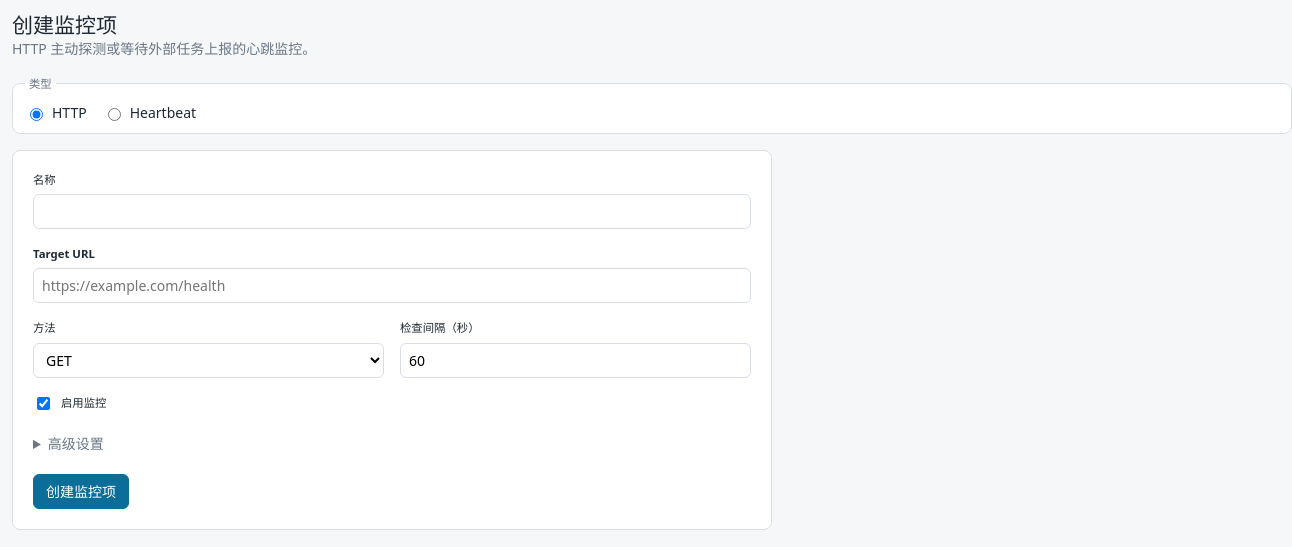
Scenario: MonitorCreateView › keeps the created heartbeat monitor when no token is returned
Click the radio button labelled "Heartbeat" at (114,114), box left=108, top=108, right=121, bottom=121
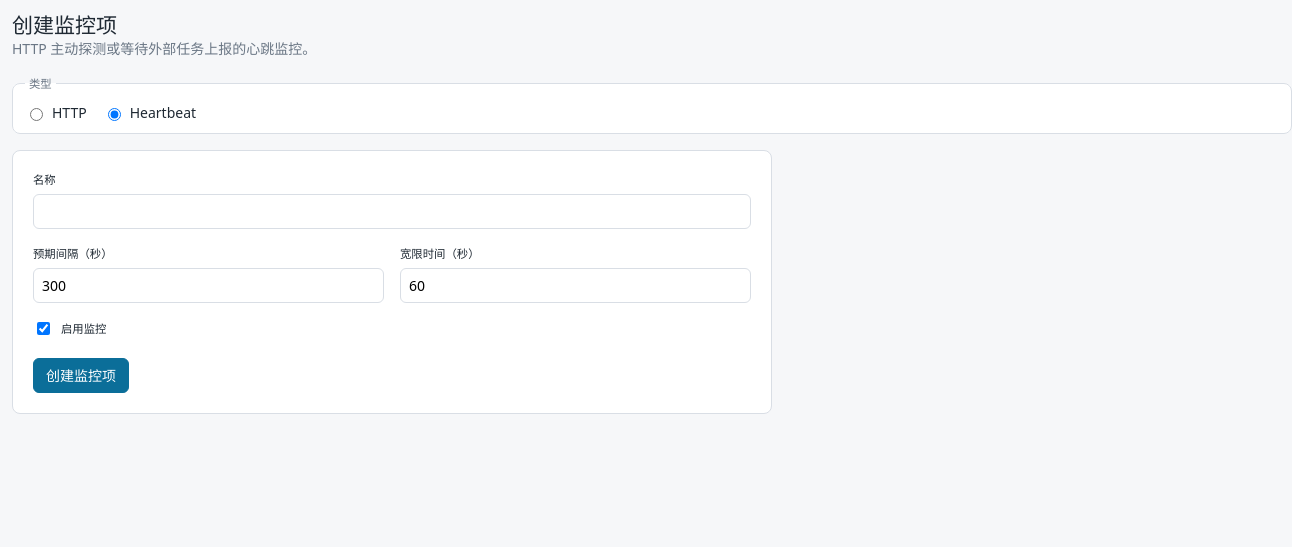
Type "Nightly job" into the field with id "heartbeat-name" at (392,212), box left=33, top=194, right=751, bottom=229
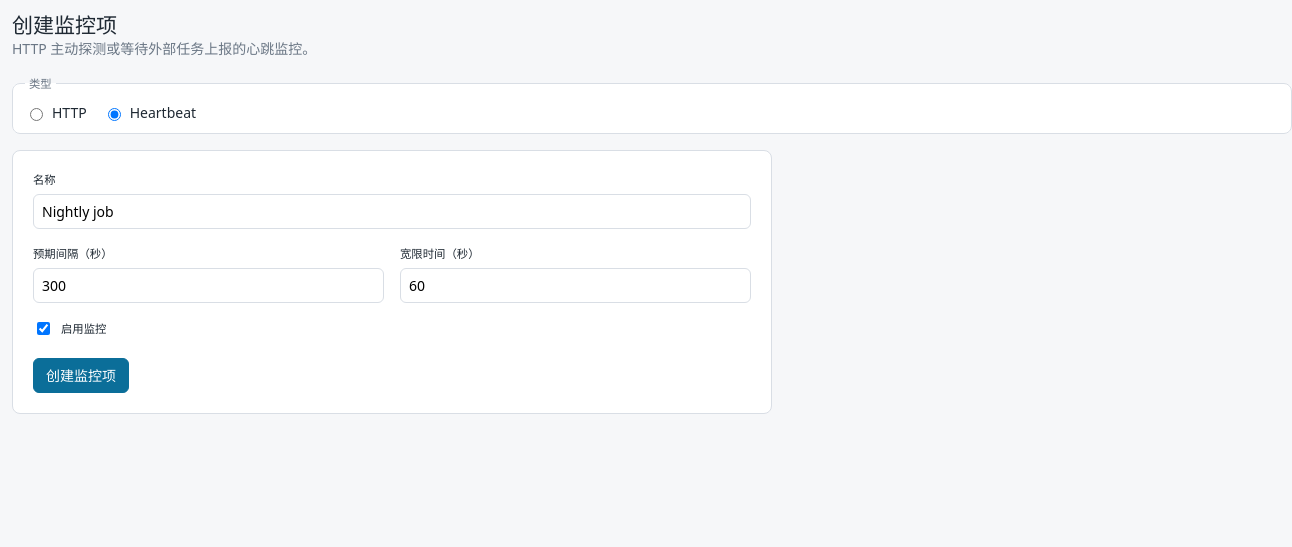
Submit the form, box left=12, top=150, right=772, bottom=414
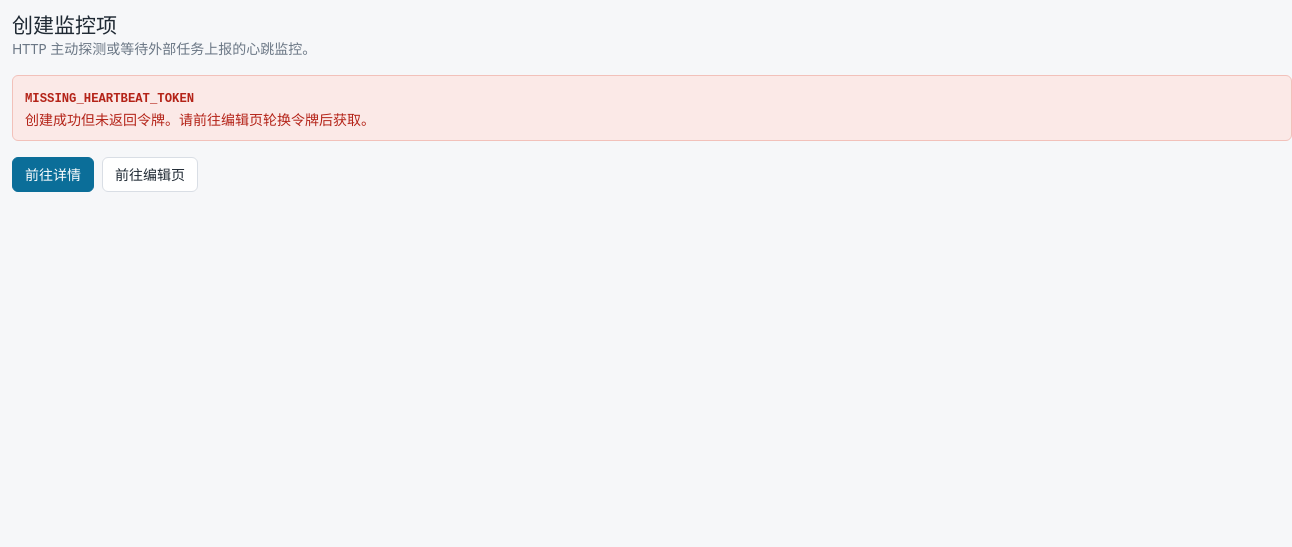
Expected: the text "未返回令牌" is shown, left=25, top=110, right=375, bottom=129
Expected: the link to "/monitors/9/edit" is shown, left=102, top=157, right=198, bottom=192
Expected: the link to "/monitors/9" is shown, left=12, top=157, right=94, bottom=192
